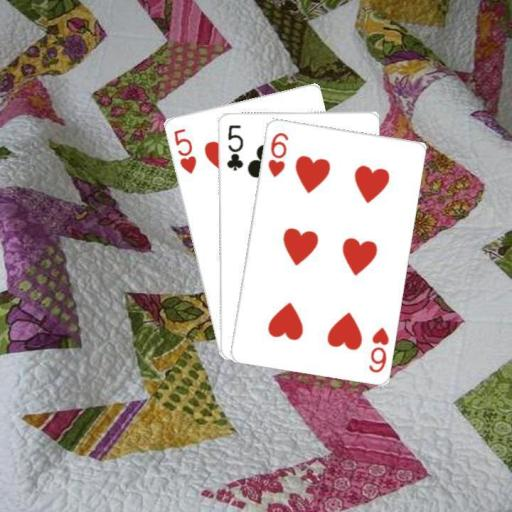card-corner: (170, 124, 198, 175), (264, 128, 289, 178), (365, 324, 390, 374), (223, 121, 244, 171)
